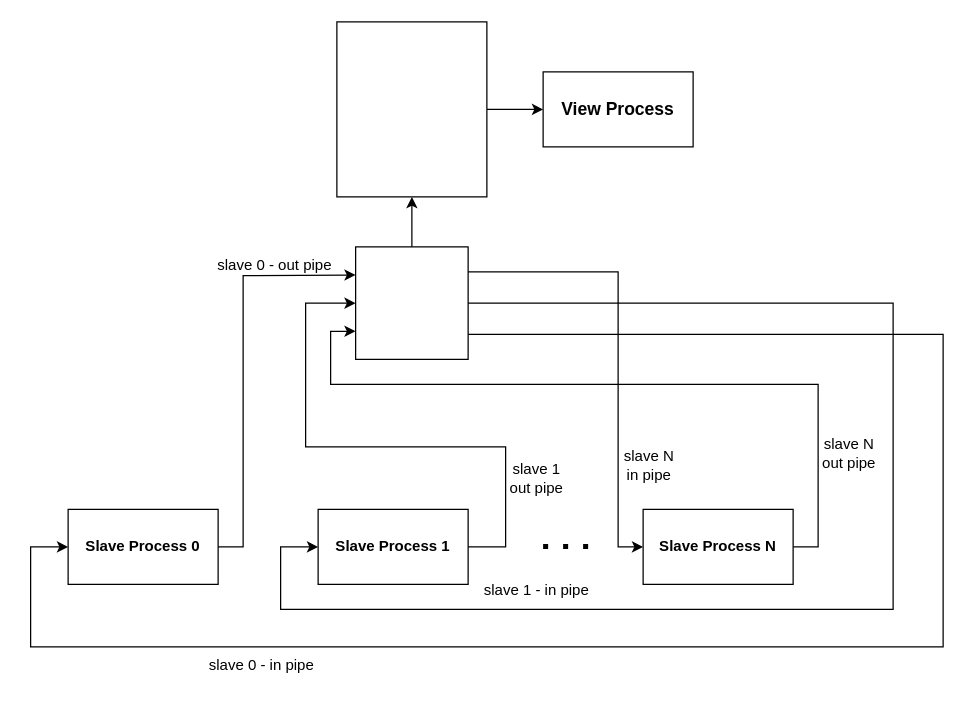
The diagram is 975 pixels wide and 706 high, and some of its shapes have lost their labels. The shapes that lost their labels are listed below. From the top down, each one's centre as x and y in pixels, then its label:
At point 411,109: "Shared Memory Buffer".
At point 411,302: "Master Process".
